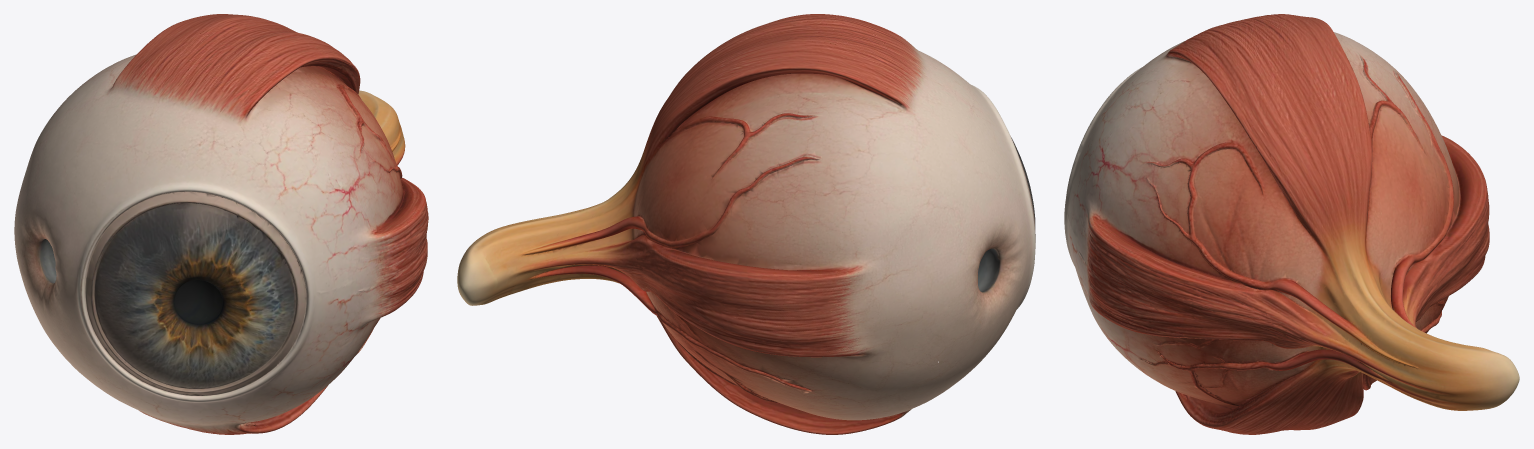
Rendered from organ-eyeball-interactive-lod.glb.
The picture shows the model from 3 angles, left to right: view 1: azimuth 30°, elevation 25°; view 2: azimuth 150°, elevation 25°; view 3: azimuth 270°, elevation 25°; orthographic projection.
Parts seen in each view (by area): view 1: tripo_node_ebf243bf-d3b6-4331-9960-3b03130a2b84; view 2: tripo_node_ebf243bf-d3b6-4331-9960-3b03130a2b84; view 3: tripo_node_ebf243bf-d3b6-4331-9960-3b03130a2b84.
Part boxes in pixels (bbox=[...]): tripo_node_ebf243bf-d3b6-4331-9960-3b03130a2b84: bbox=[14, 14, 428, 434]; tripo_node_ebf243bf-d3b6-4331-9960-3b03130a2b84: bbox=[457, 14, 1035, 434]; tripo_node_ebf243bf-d3b6-4331-9960-3b03130a2b84: bbox=[1064, 14, 1519, 434].
Size of the model in its own units: 32088 by 26365 by 27948.
1 material, 1 textured.
